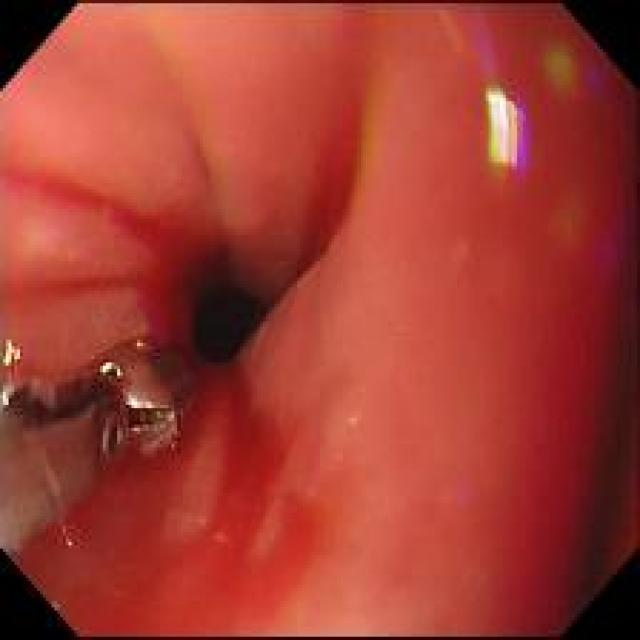color misalignment: (482, 88, 534, 174)
contrast: (187, 272, 270, 368)
instrument: (2, 338, 177, 546)
specularity: (35, 514, 82, 544), (33, 523, 78, 552), (3, 336, 21, 367), (101, 358, 120, 379), (73, 499, 90, 520), (125, 393, 141, 415), (127, 393, 143, 411)
